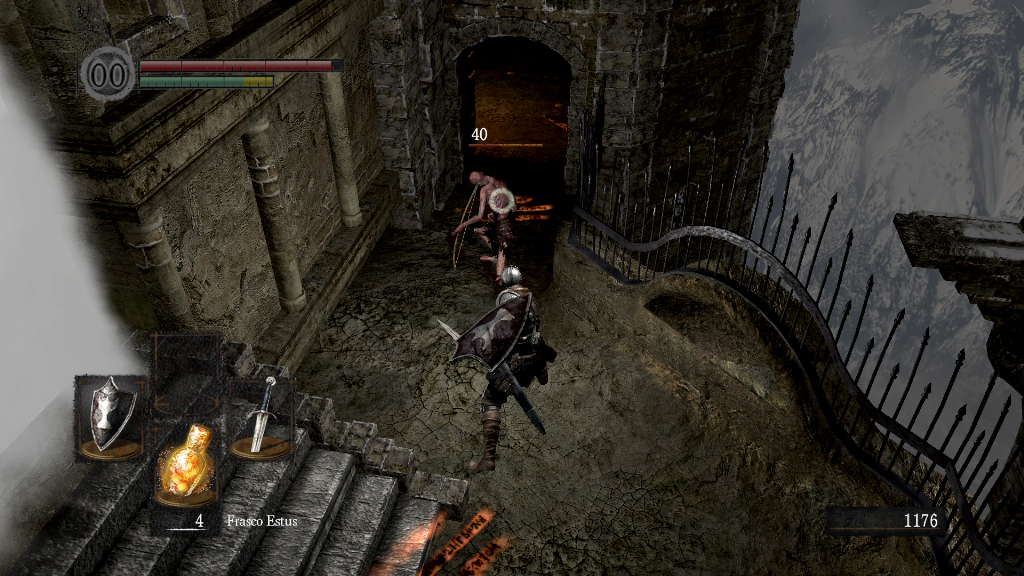health: (138, 58, 343, 71)
hollow: (452, 169, 518, 293)
humanity: (80, 45, 136, 102)
player: (434, 264, 559, 474)
souls: (825, 506, 945, 536)
stamina: (138, 74, 274, 88)
